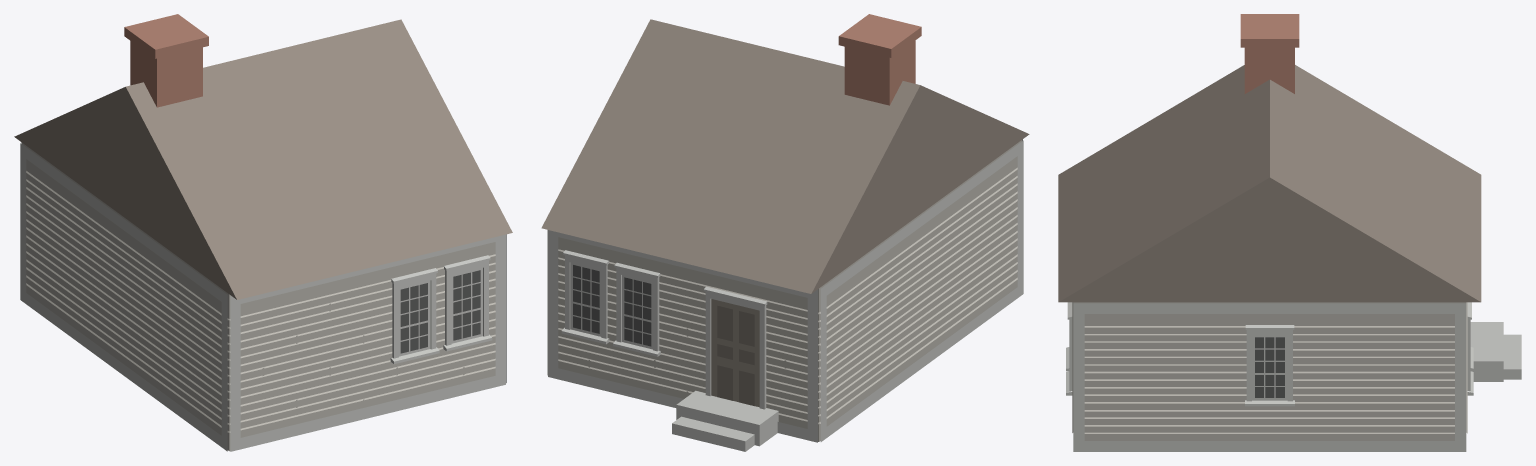
File: recon_1835_north_d3_006__inferred_1835.glb
3 views of the same model, side by side, from view 1: azimuth 30°, elevation 25°; view 2: azimuth 150°, elevation 25°; view 3: azimuth 270°, elevation 25° (orthographic). The views are drawn at different scales.
Parts seen in each view (by area): view 1: recon_1835_north_d3_006__inferred_1835; view 2: recon_1835_north_d3_006__inferred_1835; view 3: recon_1835_north_d3_006__inferred_1835.
Part boxes in pixels (x1,y1,x2,y2): recon_1835_north_d3_006__inferred_1835: (14,14,512,451); recon_1835_north_d3_006__inferred_1835: (541,14,1029,451); recon_1835_north_d3_006__inferred_1835: (1058,14,1521,451).
Size of the model in its own units: 5.19 by 5.82 by 7.72.
